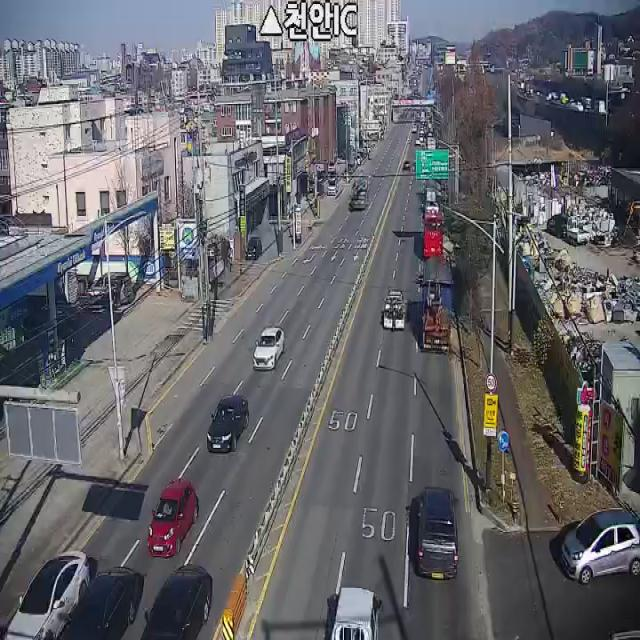Bus: (423, 211, 443, 258), (426, 188, 438, 211)
Car: (4, 549, 90, 640), (61, 566, 145, 640), (560, 510, 640, 585), (140, 564, 212, 640), (416, 487, 460, 581), (147, 479, 199, 558), (207, 395, 250, 453), (86, 271, 134, 307), (252, 326, 285, 370), (383, 287, 405, 329), (246, 236, 262, 259), (328, 178, 338, 196)
Truck: (419, 257, 453, 353), (330, 586, 380, 640), (344, 164, 370, 216), (562, 218, 588, 245)
